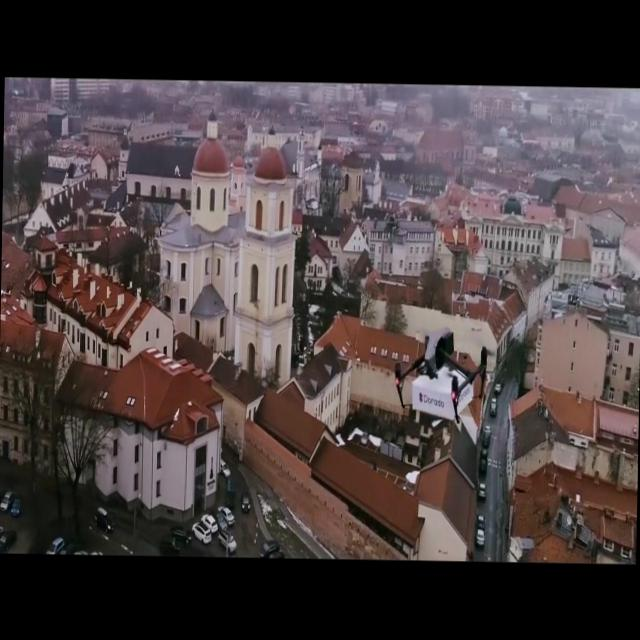drone: (390, 324, 490, 431)
